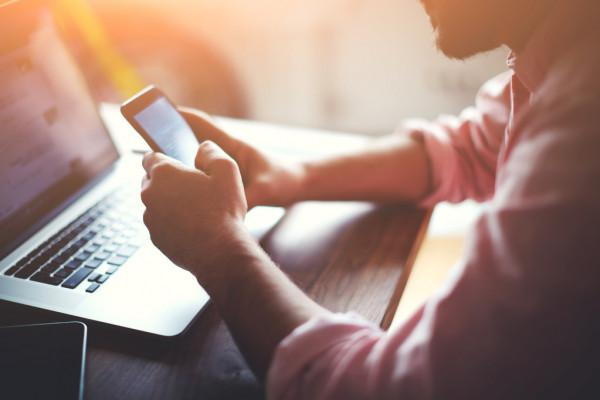mobile: (122, 84, 205, 175)
